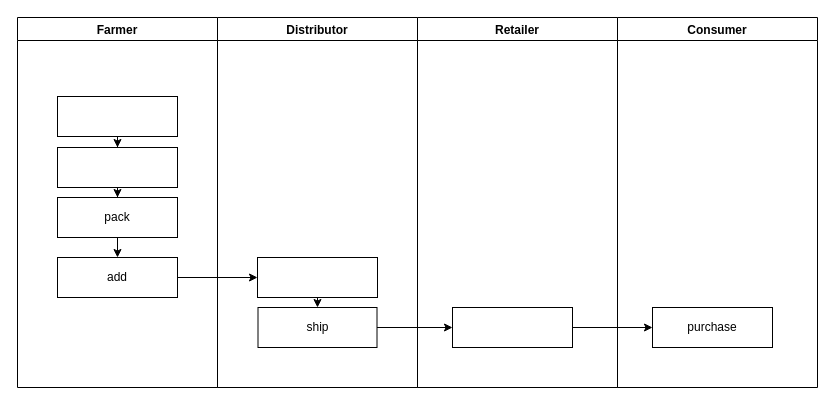
The diagram is 835 pixels wide and 405 high, and some of its shapes have lost their labels. Each missing label, with the centre of its shape:
"buy" belongs at (x=317, y=277).
"harvest" belongs at (x=117, y=116).
"process" belongs at (x=117, y=167).
"receive" belongs at (x=512, y=327).
